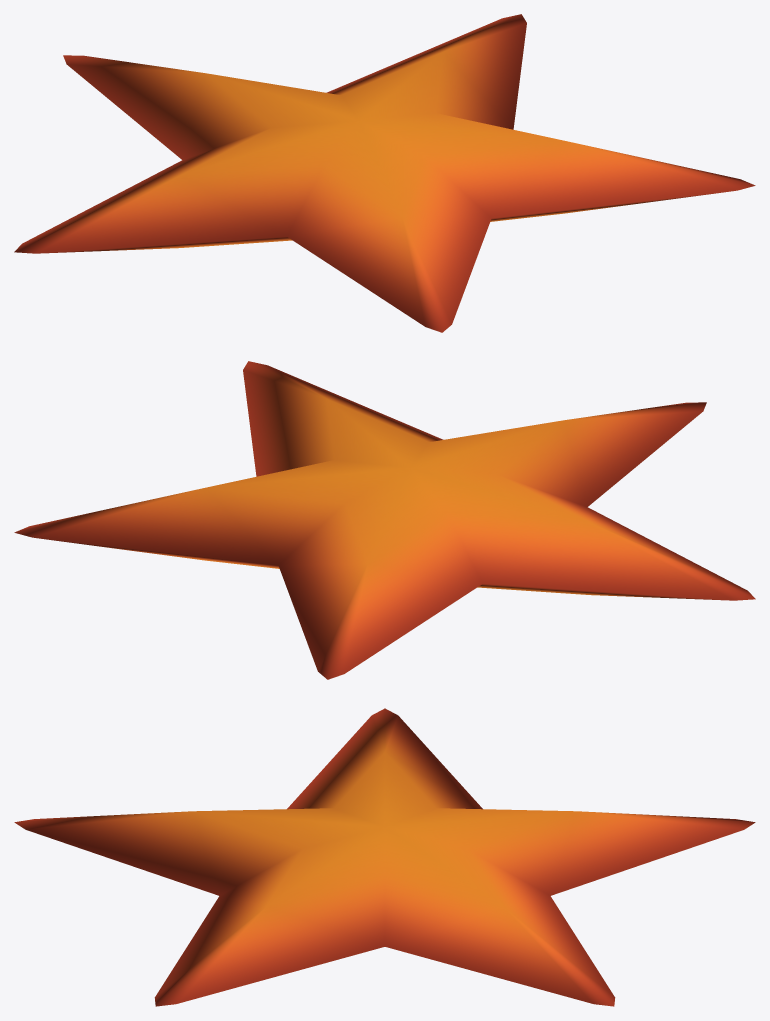
Rendered from starfish 1.FBX.
3 renders of one model, top to bottom at view 1: azimuth 30°, elevation 25°; view 2: azimuth 150°, elevation 25°; view 3: azimuth 270°, elevation 25°, orthographic. The views are drawn at different scales.
Visible parts, largest first — view 1: Star001; view 2: Star001; view 3: Star001.
Boxes of the visible parts, <box> form: Star001: <box>14,14,755,332</box>; Star001: <box>14,361,755,679</box>; Star001: <box>14,708,755,1006</box>.
Size of the model in its own units: 80.19 by 11.58 by 84.32.
Materials: 1 (1 with a texture image).
